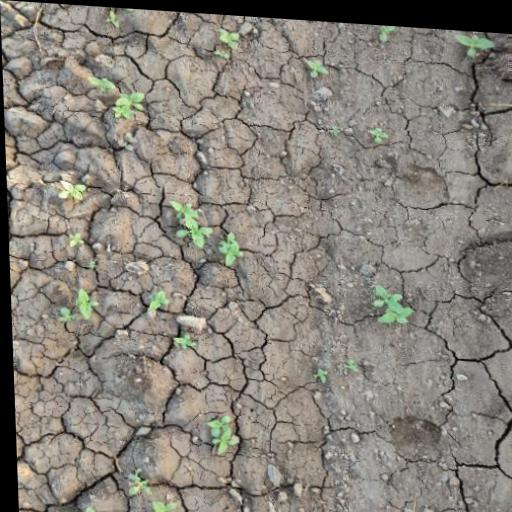crop: (70, 71, 160, 150), (163, 192, 242, 264), (367, 268, 414, 332), (48, 278, 100, 333), (196, 404, 242, 459), (48, 167, 94, 211), (164, 326, 200, 355)
